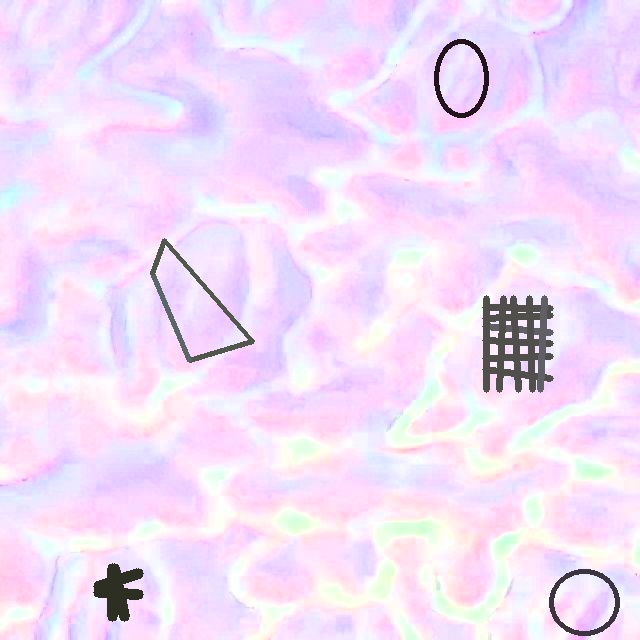close: (151, 239, 253, 361)
open: (482, 295, 553, 392), (548, 568, 620, 635), (434, 38, 488, 118), (94, 564, 143, 621)
